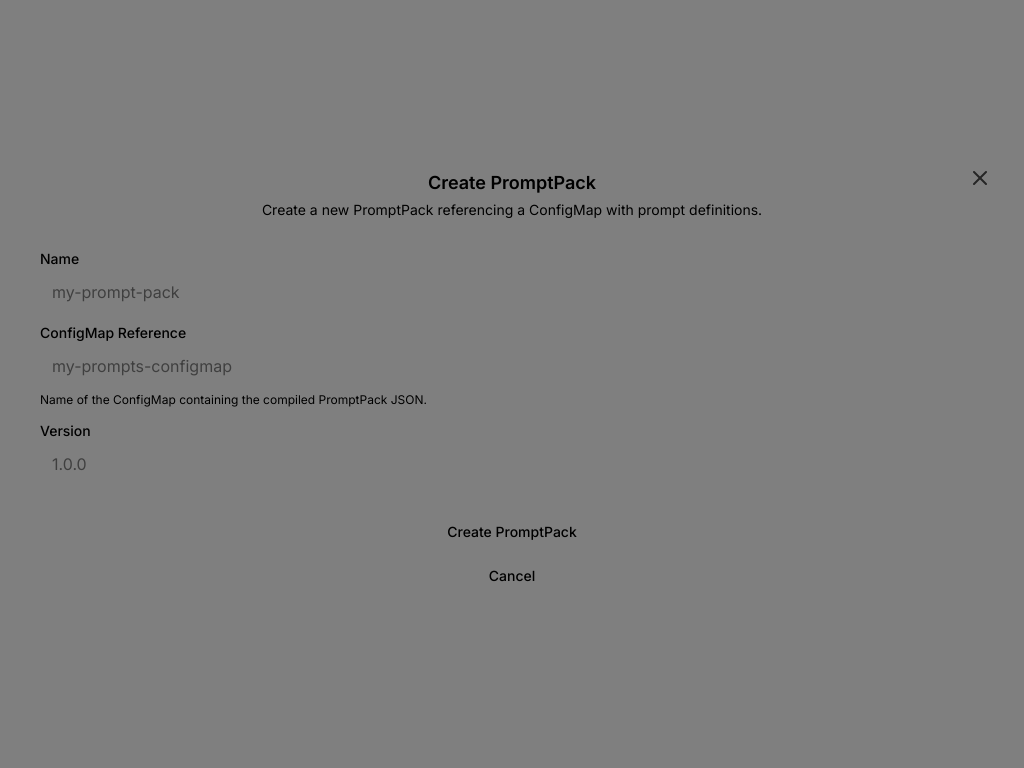
PromptPackDialog › validates required name field on submit
Click the button "Create PromptPack" at (512, 532), box x1=40 y1=514 x2=984 y2=550
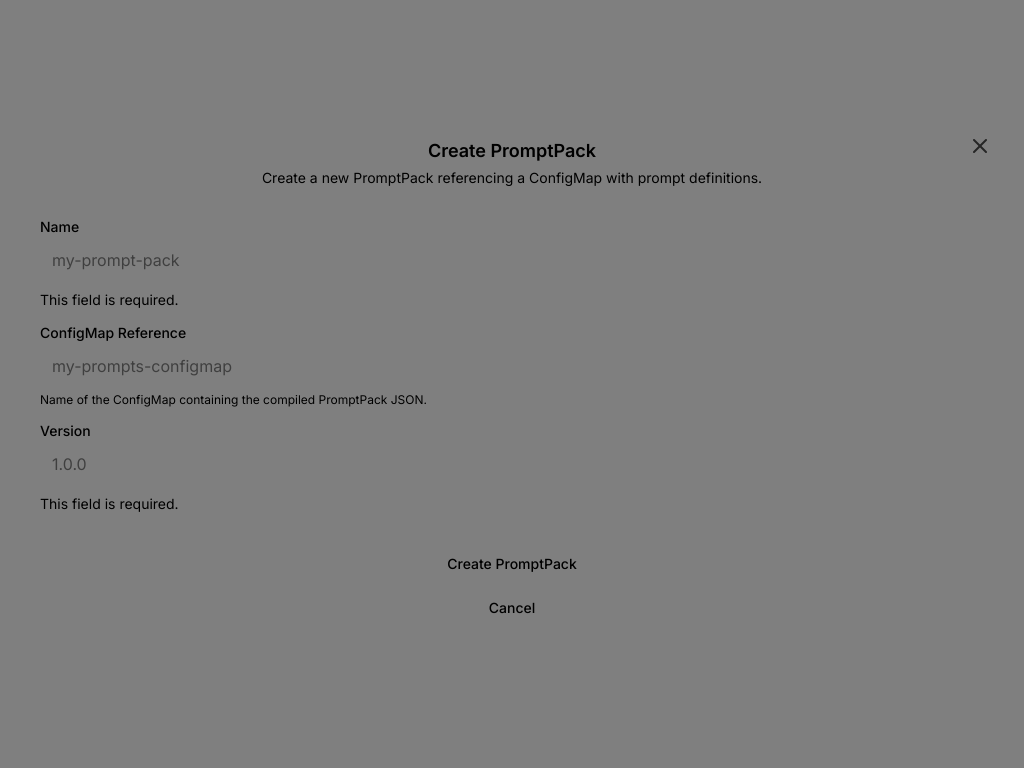
expect the 1st text "This field is required." is shown: met, box x1=40 y1=291 x2=179 y2=308
